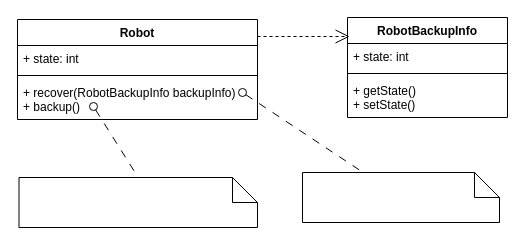
Image size: 525x245. Some labels were removed from this diagram. Here are the shapes that lost their labels. From the top down, the centre of each, then its label:
At (138,202): "return new RobotBackupInfo(this.state);".
At (401,197): "this.state = backupInfo.getState()".
